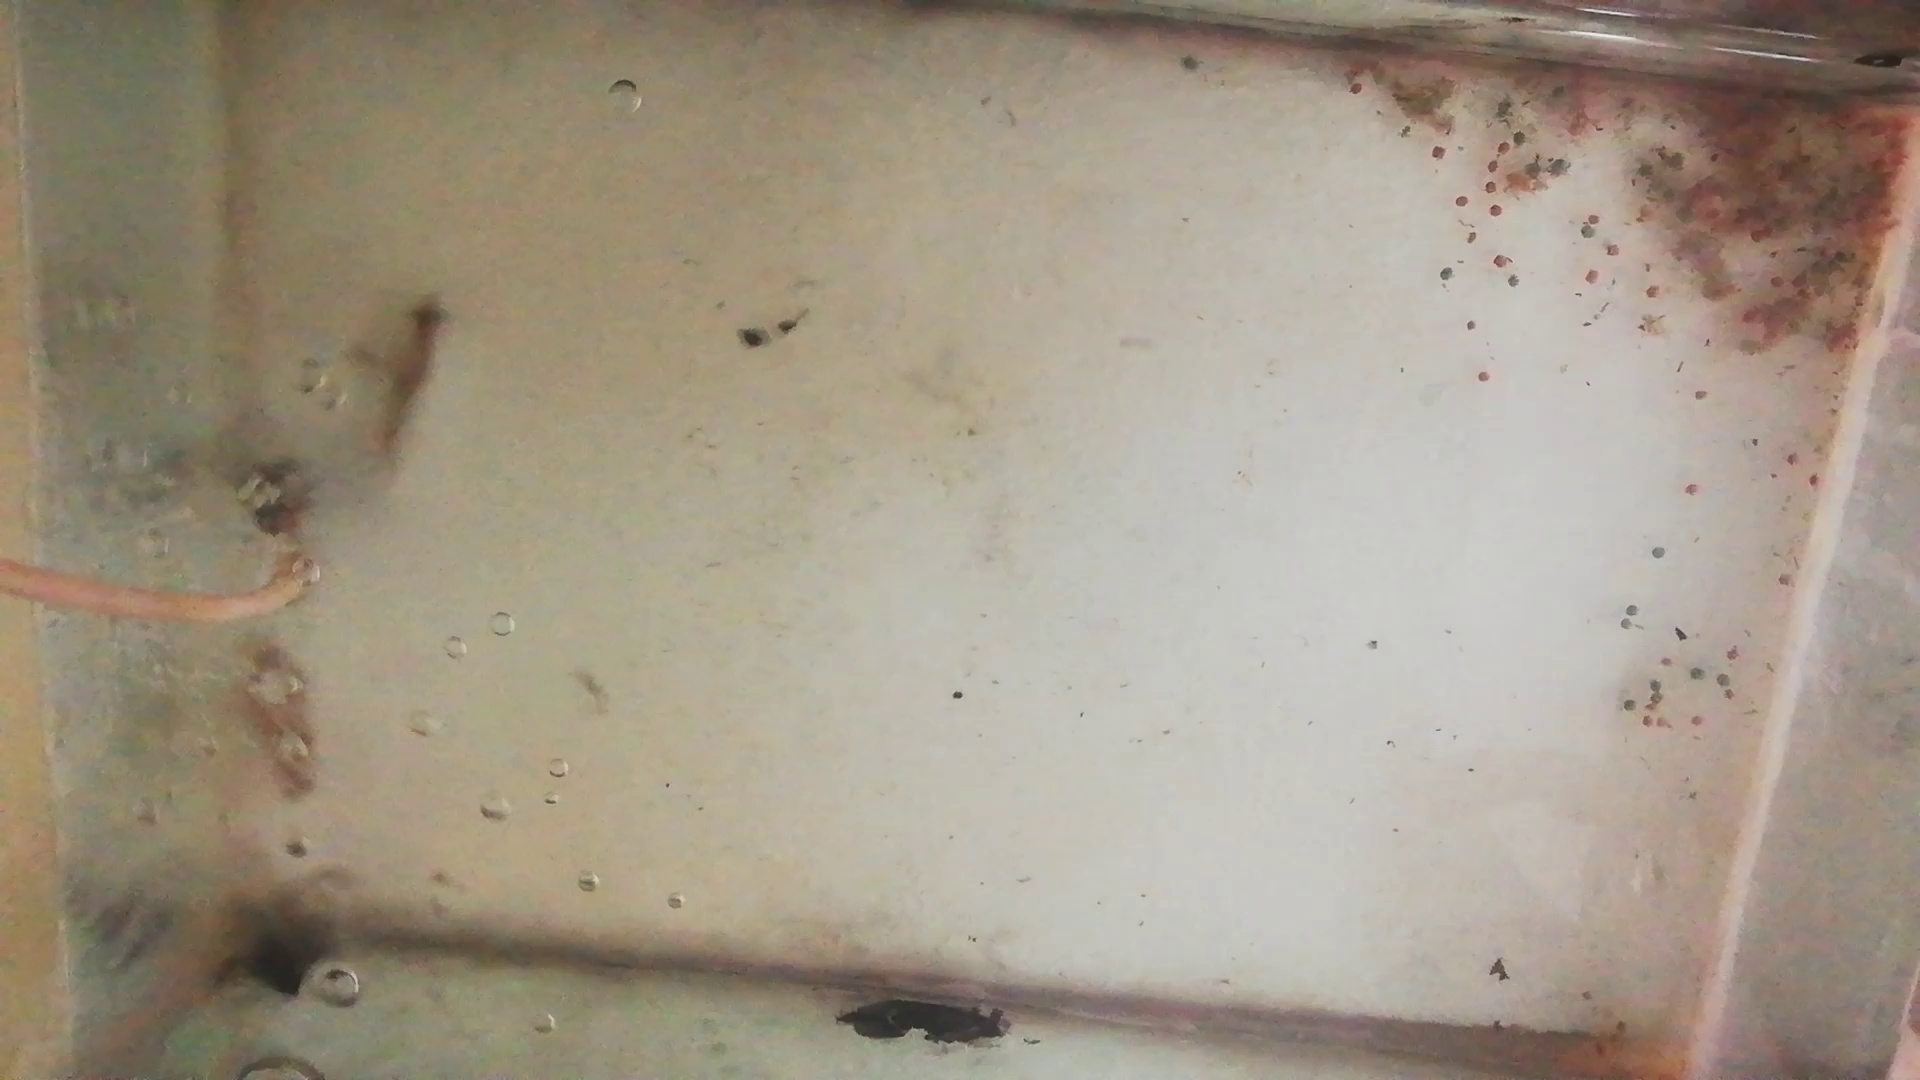fish: (235, 637, 328, 800), (373, 295, 452, 472)
